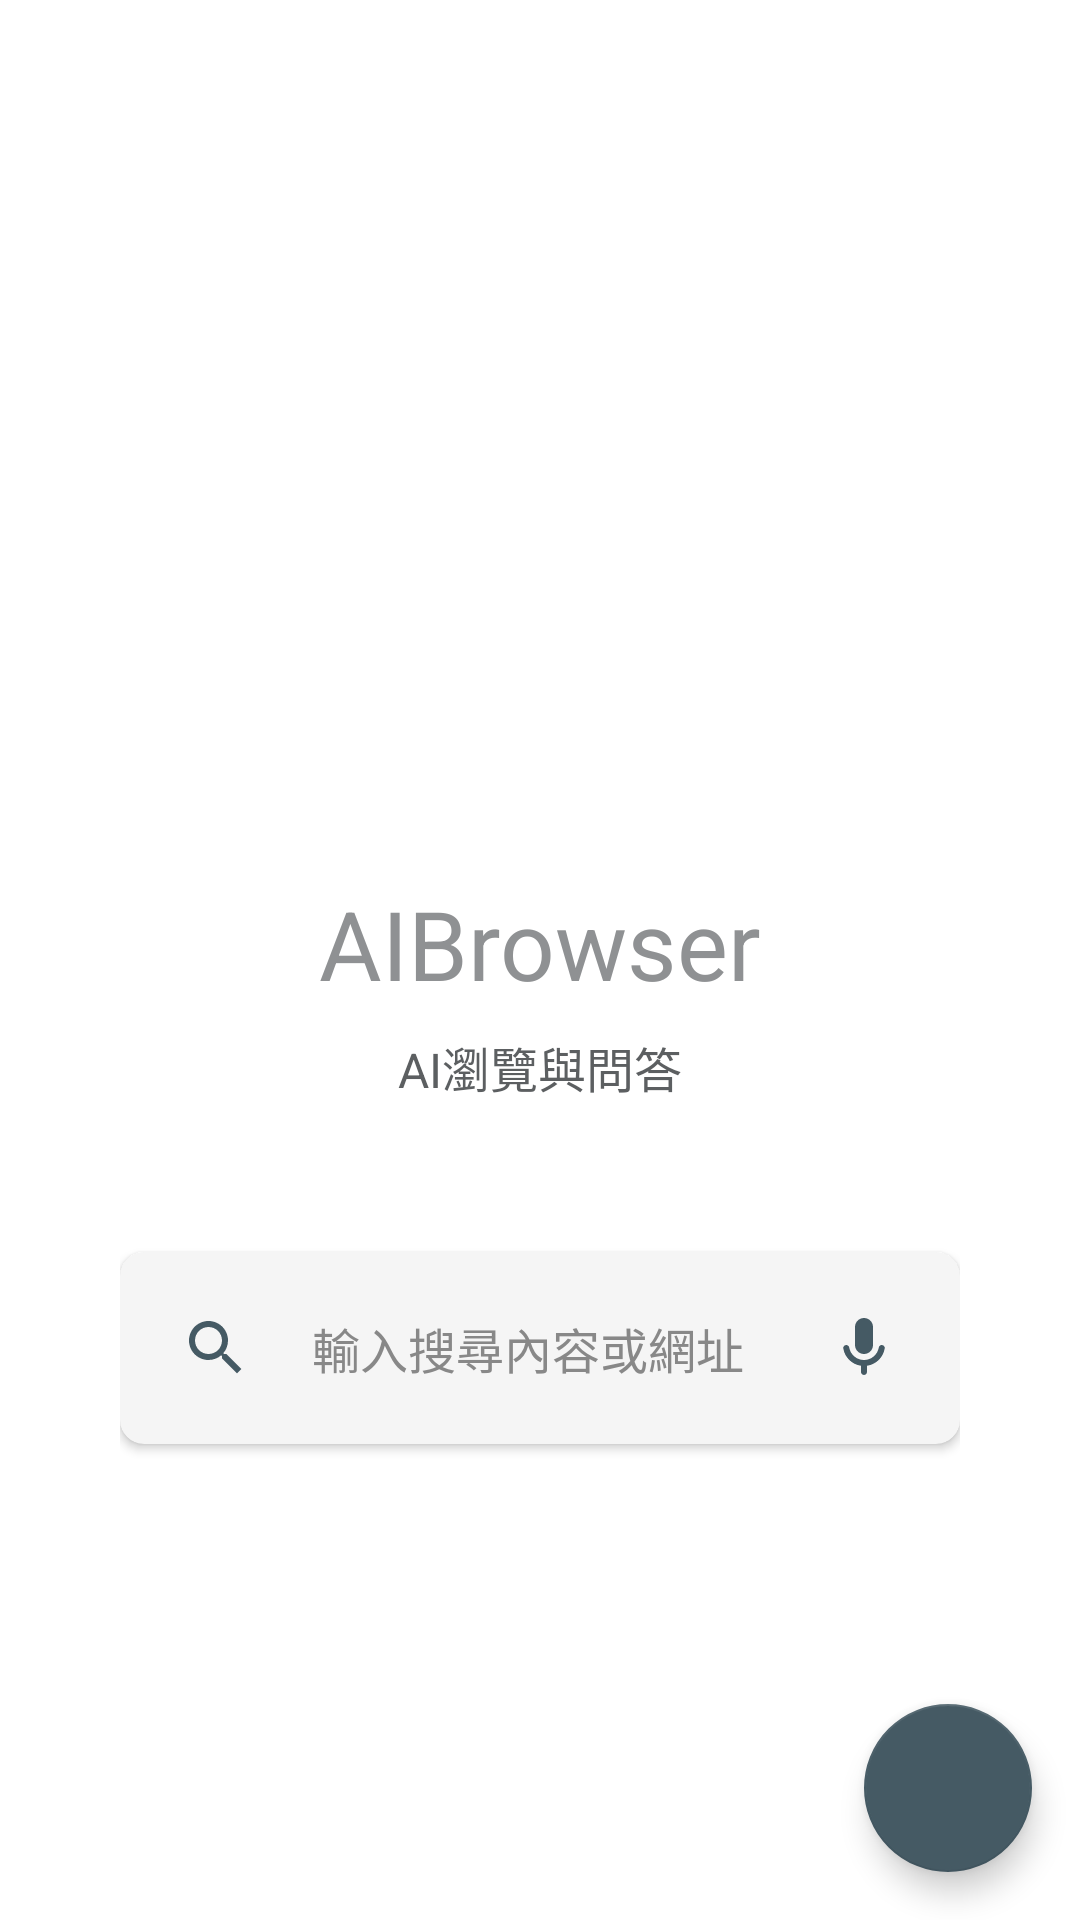

Named icons in this screenshot (1080x1920) and their centers, point (x, y):
語音輸入: point (864, 1346)
